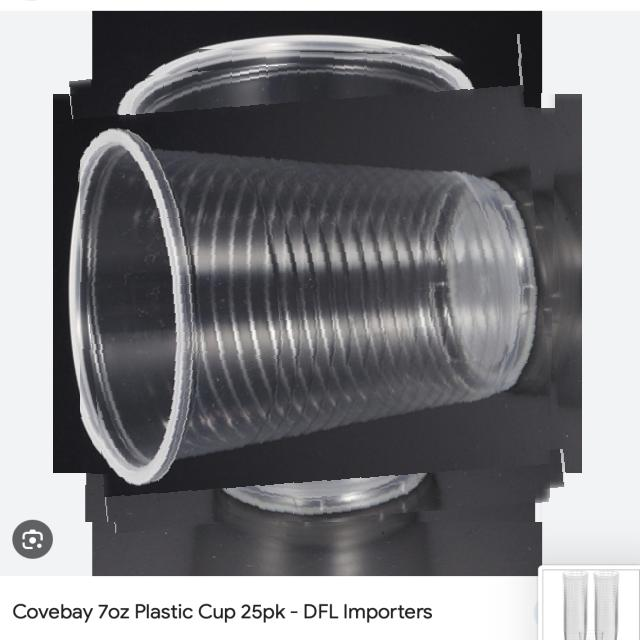recyclable: (80, 45, 556, 522)
